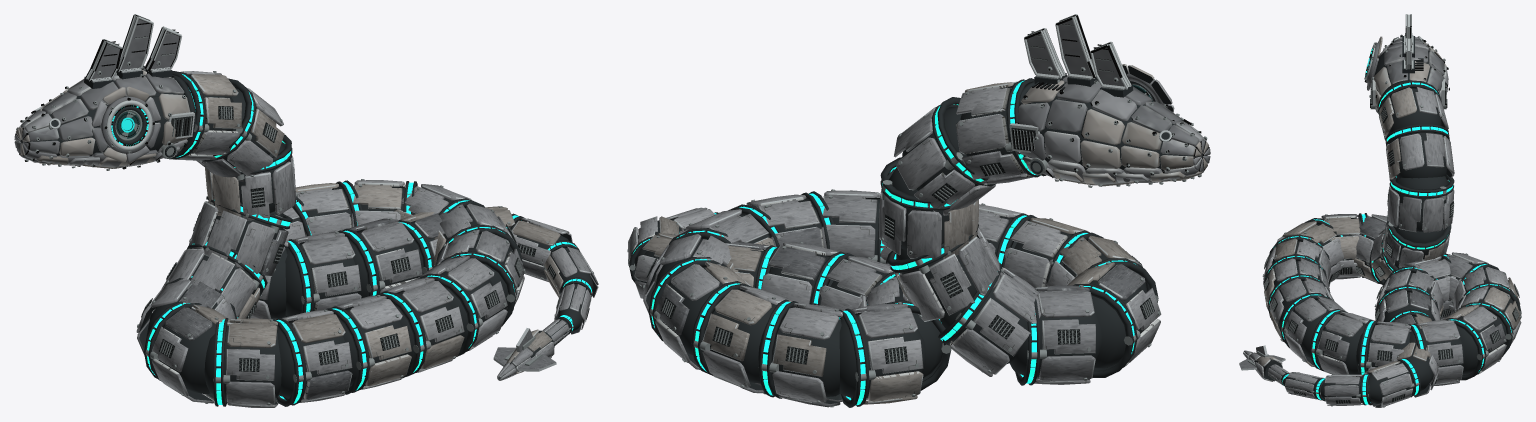
The model's file is snake_full.glb.
3 renders of one model, left to right at view 1: azimuth 30°, elevation 25°; view 2: azimuth 150°, elevation 25°; view 3: azimuth 270°, elevation 25°, orthographic. The views are drawn at different scales.
Visible parts, largest first — view 1: Head_Joint, Segment_07, Segment_08, Segment_06, Segment_09, Segment_20, Segment_10, Segment_03, Segment_11, Segment_21, Segment_02, Segment_00 (+16 smaller); view 2: Head_Joint, Segment_18, Segment_17, Segment_05, Segment_16, Segment_04, Segment_01, Segment_06, Segment_03, Segment_00, Segment_02, Segment_15 (+14 smaller); view 3: Head_Joint, Segment_02, Segment_01, Segment_12, Segment_00, Segment_15, Segment_14, Segment_11, Segment_13, Segment_03, Segment_24, Segment_16 (+18 smaller).
Part boxes in pixels (left/top/right/bottom): Head_Joint: left=14, top=14, right=195, bottom=170; Segment_07: left=204, top=318, right=281, bottom=407; Segment_08: left=273, top=309, right=352, bottom=406; Segment_06: left=144, top=301, right=235, bottom=403; Segment_09: left=325, top=295, right=411, bottom=394; Segment_20: left=284, top=231, right=361, bottom=316; Segment_10: left=375, top=277, right=464, bottom=378; Segment_03: left=189, top=196, right=292, bottom=276; Segment_11: left=418, top=255, right=507, bottom=356; Segment_21: left=337, top=218, right=422, bottom=298; Segment_02: left=205, top=134, right=297, bottom=220; Segment_00: left=164, top=71, right=241, bottom=161; Head_Joint: left=1008, top=14, right=1210, bottom=187; Segment_18: left=838, top=302, right=925, bottom=407; Segment_17: left=758, top=299, right=844, bottom=407; Segment_05: left=1009, top=285, right=1102, bottom=385; Segment_16: left=691, top=281, right=792, bottom=394; Segment_04: left=938, top=263, right=1041, bottom=376; Segment_01: left=894, top=97, right=996, bottom=215; Segment_06: left=1067, top=262, right=1161, bottom=377; Segment_03: left=886, top=224, right=1003, bottom=321; Segment_00: left=955, top=78, right=1046, bottom=185; Segment_02: left=879, top=157, right=978, bottom=259; Segment_15: left=648, top=257, right=754, bottom=369; Head_Joint: left=1364, top=14, right=1449, bottom=114; Segment_02: left=1387, top=174, right=1454, bottom=232; Segment_01: left=1385, top=123, right=1454, bottom=180; Segment_12: left=1310, top=309, right=1374, bottom=374; Segment_00: left=1377, top=80, right=1448, bottom=139; Segment_15: left=1443, top=305, right=1506, bottom=380; Segment_14: left=1408, top=319, right=1464, bottom=385; Segment_11: left=1280, top=293, right=1346, bottom=366; Segment_13: left=1356, top=320, right=1412, bottom=374; Segment_03: left=1382, top=218, right=1451, bottom=268; Segment_24: left=1364, top=358, right=1421, bottom=407; Segment_16: left=1456, top=286, right=1521, bottom=356.
Bounding box in the file's own units: 8.84 × 5.57 × 5.54.
Materials: 9 (4 with a texture image).
